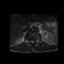CCS_stenosis: (31, 38, 33, 45)
LFS_stenosis: (34, 39, 36, 43)
LLS_normal: (33, 39, 34, 43)
RFS_stenosis: (28, 39, 30, 43)
RLS_stenosis: (30, 39, 31, 43)
